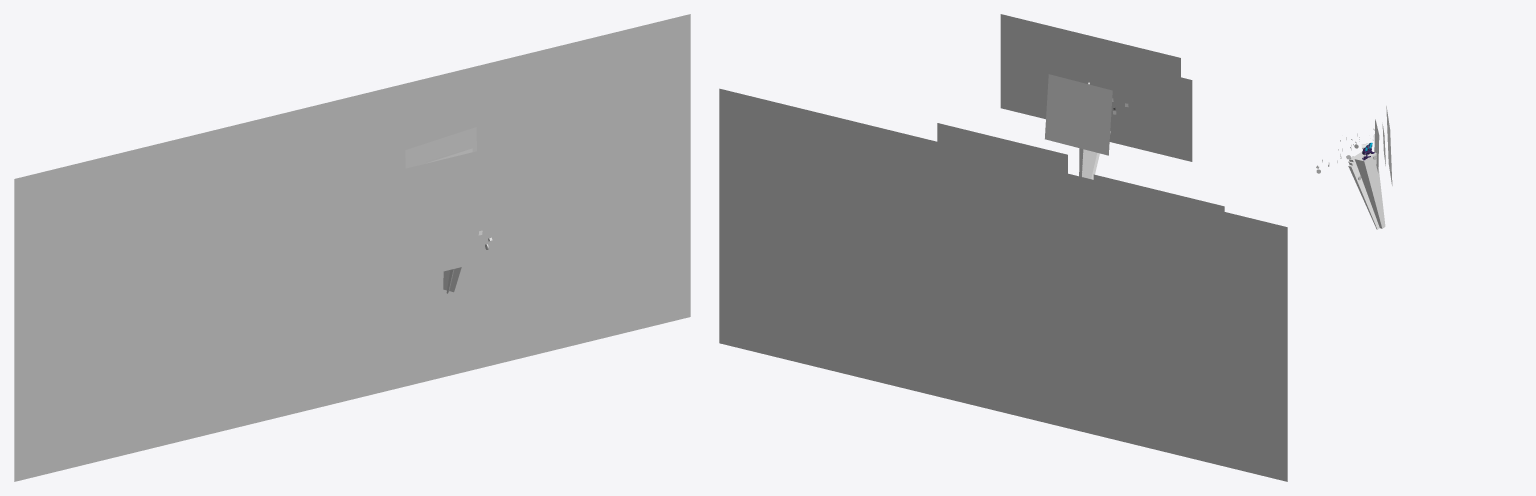
The picture shows the model from 3 angles, left to right: view 1: azimuth 30°, elevation 25°; view 2: azimuth 150°, elevation 25°; view 3: azimuth 270°, elevation 25°; orthographic projection. The views are drawn at different scales.
Parts seen in each view (by area): view 1: Clouds, Clouds.001, 09_RadialGradient_228(Clone); view 2: Clouds, Clouds.001, 09_RadialGradient_228(Clone); view 3: Podium.
Boxes of the visible parts, box(x1,y1,x2,y2) form: Clouds: box(14, 14, 690, 481); Clouds.001: box(367, 117, 617, 281); 09_RadialGradient_228(Clone): box(405, 127, 476, 168); Clouds: box(719, 88, 1287, 481); Clouds.001: box(1000, 14, 1192, 161); 09_RadialGradient_228(Clone): box(1045, 74, 1112, 155); Podium: box(1348, 152, 1385, 229).
Size of the model in its own units: 868 by 424 by 309.
